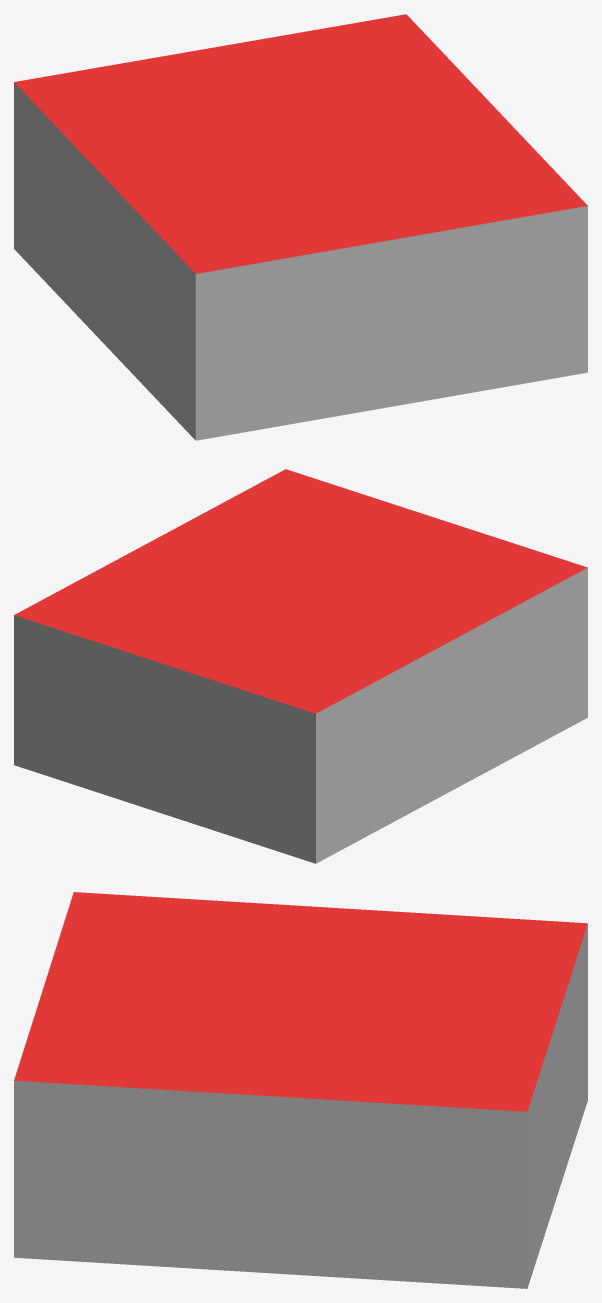
Rendered from DEBY_LOD2_4779452.dae.
3 views of the same model, one above another, from view 1: azimuth 30°, elevation 25°; view 2: azimuth 150°, elevation 25°; view 3: azimuth 270°, elevation 25° (orthographic). The views are drawn at different scales.
Bounding box in the file's own units: 6.87 × 7.58 × 2.58.
